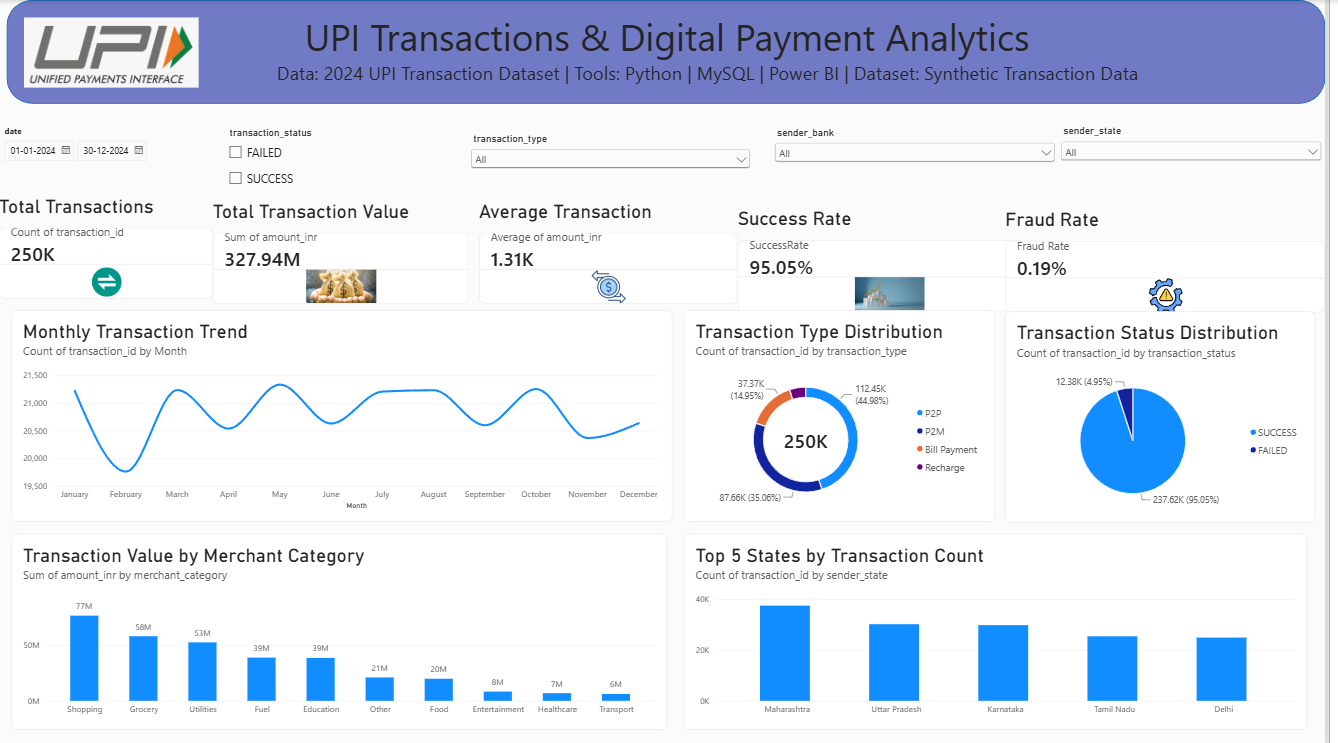

The dashboard page shown, as its layout file describes it:
{"tool":"powerbi","page":{"name":"Page 1","canvas":[1920,1080],"ordinal":0},"visuals":[{"type":"textbox","box":[10,0,280,280],"z":0},{"type":"textbox","box":[10,290,280,280],"z":1000},{"type":"shape","box":[10.9,0,1909.2,150.2],"z":2000},{"type":"textbox","box":[38,16.3,1858.5,123.1],"z":3000},{"type":"image","box":[37,10.3,253.2,129.7],"z":4000},{"type":"cardVisual","title":"Total Transactions","fields":{"Data":["CountNonNull(upi_analytic_project upi_transactions.transaction_id)"]},"box":[0,282,310.8,150.3],"z":5000},{"type":"cardVisual","title":"Total Transaction Value","fields":{"Data":["Sum(upi_analytic_project upi_transactions.amount_inr)"]},"box":[308.7,290.2,370.5,150.3],"z":6000},{"type":"cardVisual","title":"Average Transaction","fields":{"Data":["Avg(upi_analytic_project upi_transactions.amount_inr)"]},"box":[695.7,290.2,374.6,150.3],"z":7000},{"type":"cardVisual","title":"Success Rate","fields":{"Data":["upi_transaction_analytic_project.SuccessRate"]},"box":[1070.3,300.5,438.4,150.3],"z":8000},{"type":"cardVisual","title":"Fraud Rate","fields":{"Data":["upi_transaction_analytic_project.Fraud Rate"]},"box":[1457.3,302.6,463.1,150.3],"z":9000},{"type":"lineChart","title":"Monthly Transaction Trend","fields":{"Category":["upi_transaction_analytic_project.Month_Start.Variation.Date Hierarchy.Month"],"Y":["CountNonNull(upi_transaction_analytic_project.transaction_id)"]},"box":[18.5,448.7,957.1,306.7],"z":10000},{"type":"clusteredColumnChart","title":"Transaction Value by Merchant Category","fields":{"Category":["upi_transaction_analytic_project.merchant_category"],"Y":["Sum(upi_transaction_analytic_project.amount_inr)"]},"box":[18.5,771.9,948.9,284],"z":11000},{"type":"donutChart","title":"Transaction Type Distribution","fields":{"Category":["upi_transaction_analytic_project.transaction_type"],"Y":["CountNonNull(upi_transaction_analytic_project.transaction_id)"]},"box":[992.1,448.7,450.8,306.7],"z":12000},{"type":"pieChart","title":"Transaction Status Distribution","fields":{"Category":["upi_transaction_analytic_project.transaction_status"],"Y":["CountNonNull(upi_transaction_analytic_project.transaction_id)"]},"box":[1457.3,450.8,448.7,306.7],"z":12001},{"type":"columnChart","title":"Top 5 States by Transaction Count","fields":{"Category":["upi_transaction_analytic_project.sender_state"],"Y":["CountNonNull(upi_transaction_analytic_project.transaction_id)"]},"box":[992.1,771.9,901.5,284],"z":12002},{"type":"slicer","fields":{"Values":["upi_transaction_analytic_project.date"]},"box":[0,181.1,314.9,109.1],"z":12003},{"type":"slicer","fields":{"Values":["upi_transaction_analytic_project.transaction_status"]},"box":[325.2,183.2,370.5,107],"z":12004},{"type":"slicer","fields":{"Values":["upi_transaction_analytic_project.transaction_type"]},"box":[679.2,191.4,413.7,90.6],"z":12005},{"type":"slicer","fields":{"Values":["upi_transaction_analytic_project.sender_bank"]},"box":[1117.7,183.2,415.8,107],"z":12006},{"type":"slicer","fields":{"Values":["upi_transaction_analytic_project.sender_state"]},"box":[1533.5,181.1,387,98.8],"z":12007}]}

Visuals, with their boxes in screenshot pixels (x1, y1, x2, y2), scaled from the page's 1920x1080 canvas onto the 1338x743 screenshot:
textbox: bbox=[7, 0, 202, 193]
textbox: bbox=[7, 200, 202, 392]
shape: bbox=[8, 0, 1337, 103]
textbox: bbox=[26, 11, 1322, 96]
image: bbox=[26, 7, 202, 96]
"Total Transactions" cardVisual: bbox=[0, 194, 217, 297]
"Total Transaction Value" cardVisual: bbox=[215, 200, 473, 303]
"Average Transaction" cardVisual: bbox=[485, 200, 746, 303]
"Success Rate" cardVisual: bbox=[746, 207, 1051, 310]
"Fraud Rate" cardVisual: bbox=[1016, 208, 1337, 312]
"Monthly Transaction Trend" lineChart: bbox=[13, 309, 680, 520]
"Transaction Value by Merchant Category" clusteredColumnChart: bbox=[13, 531, 674, 726]
"Transaction Type Distribution" donutChart: bbox=[691, 309, 1006, 520]
"Transaction Status Distribution" pieChart: bbox=[1016, 310, 1328, 521]
"Top 5 States by Transaction Count" columnChart: bbox=[691, 531, 1320, 726]
slicer - upi_transaction_analytic_project.date: bbox=[0, 125, 219, 200]
slicer - upi_transaction_analytic_project.transaction_status: bbox=[227, 126, 485, 200]
slicer - upi_transaction_analytic_project.transaction_type: bbox=[473, 132, 762, 194]
slicer - upi_transaction_analytic_project.sender_bank: bbox=[779, 126, 1069, 200]
slicer - upi_transaction_analytic_project.sender_state: bbox=[1069, 125, 1337, 193]
